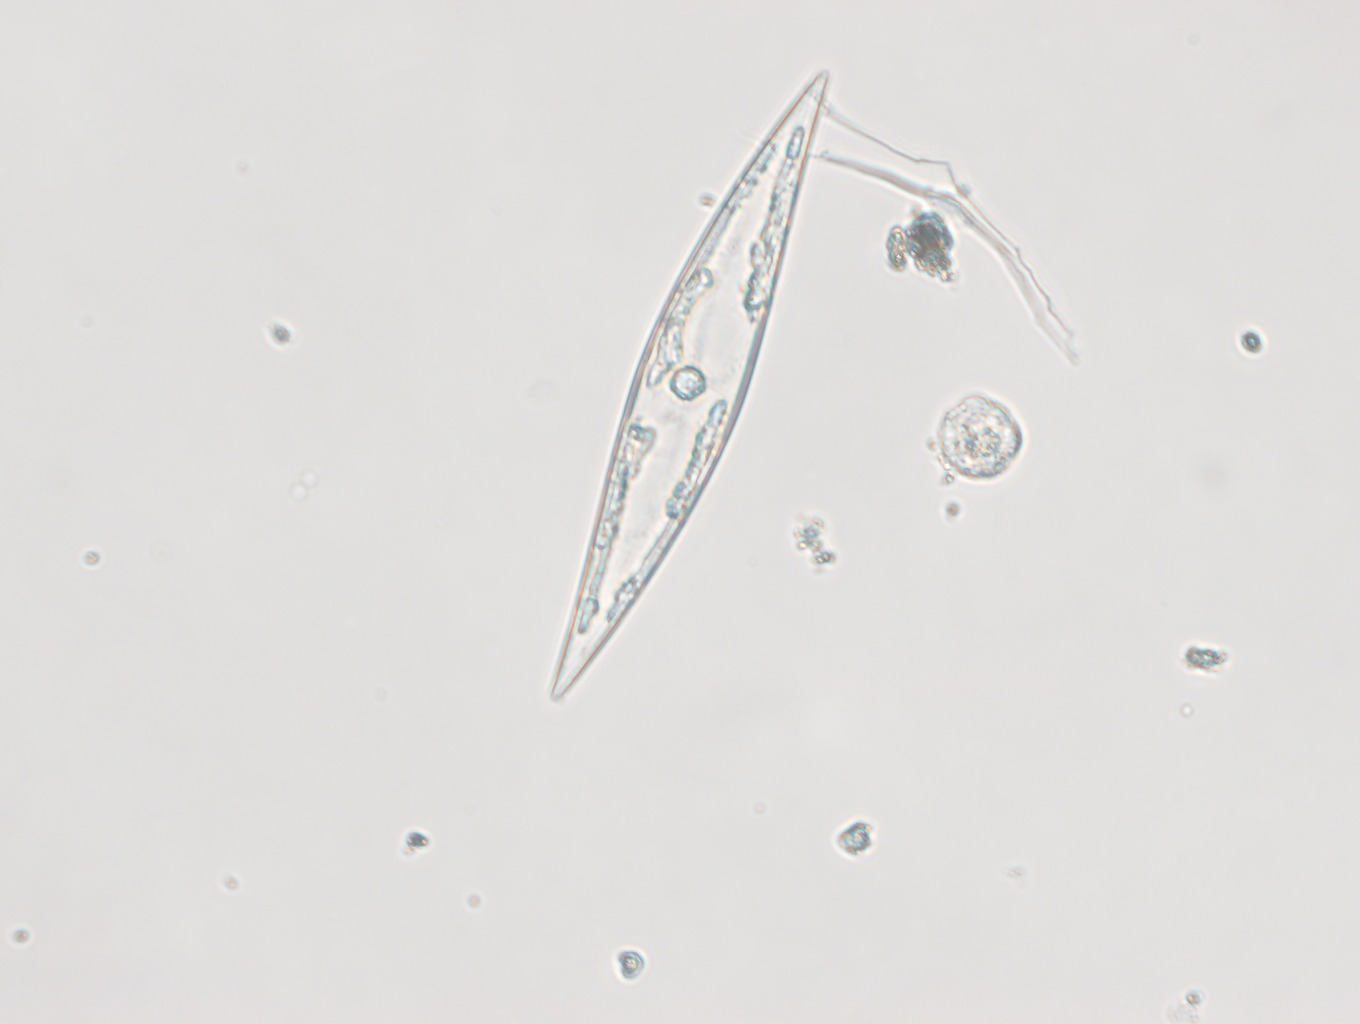pleurosigma pelagicum: (548, 65, 829, 708)
